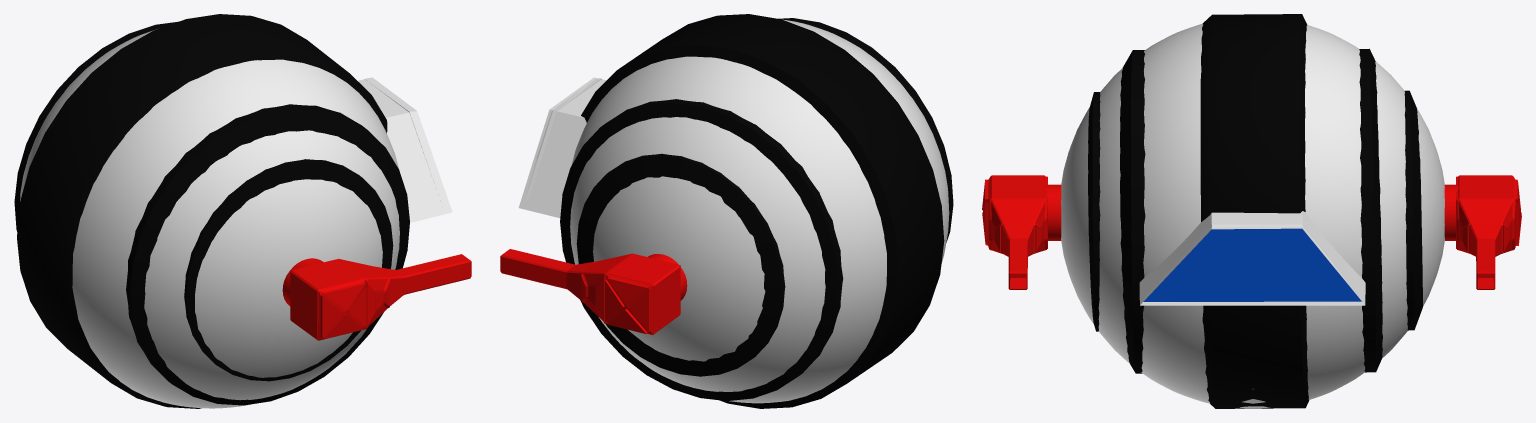
File: Robot_Enforcer.fbx
The picture shows the model from 3 angles, left to right: view 1: azimuth 30°, elevation 25°; view 2: azimuth 150°, elevation 25°; view 3: azimuth 270°, elevation 25°; orthographic projection.
Visible parts, largest first — view 1: Robot_Enforcer; view 2: Robot_Enforcer; view 3: Robot_Enforcer.
Part boxes in pixels (<box>): Robot_Enforcer: <box>14,14,471,408</box>; Robot_Enforcer: <box>500,14,953,408</box>; Robot_Enforcer: <box>982,14,1521,408</box>.
Bounding box in the file's own units: 211 × 202 × 275.
